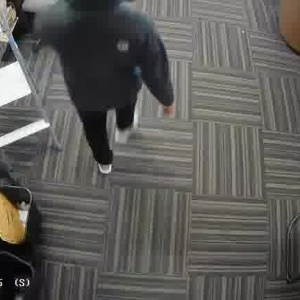person: (39, 0, 152, 179)
